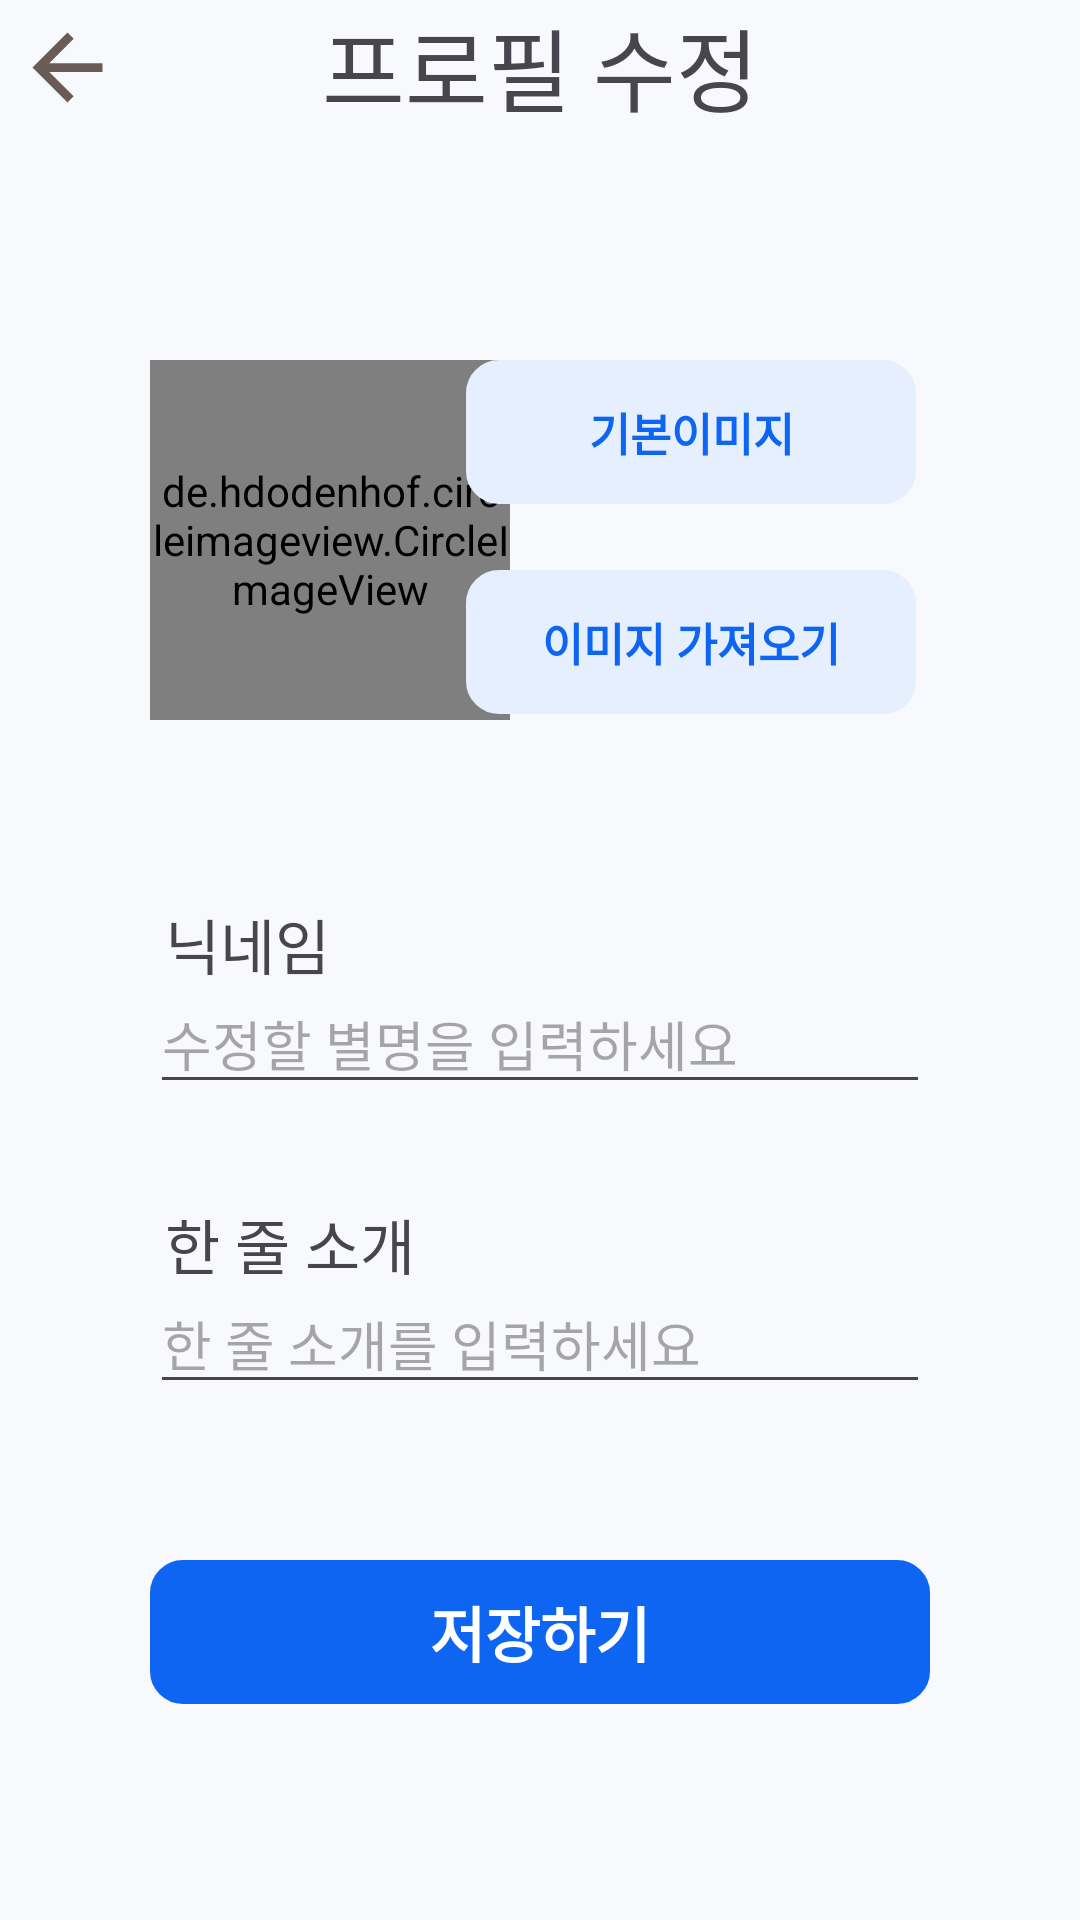

Where to tap for icons on this 1080 × 1920 app screen, as point (x, y):
arrow back: point (67, 67)
